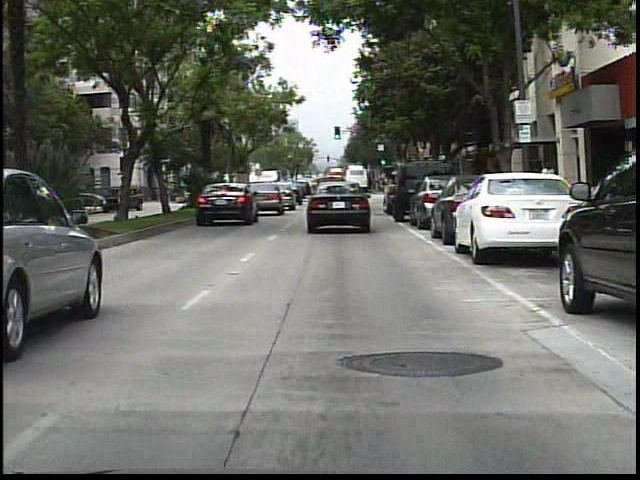person: (537, 157, 560, 217)
